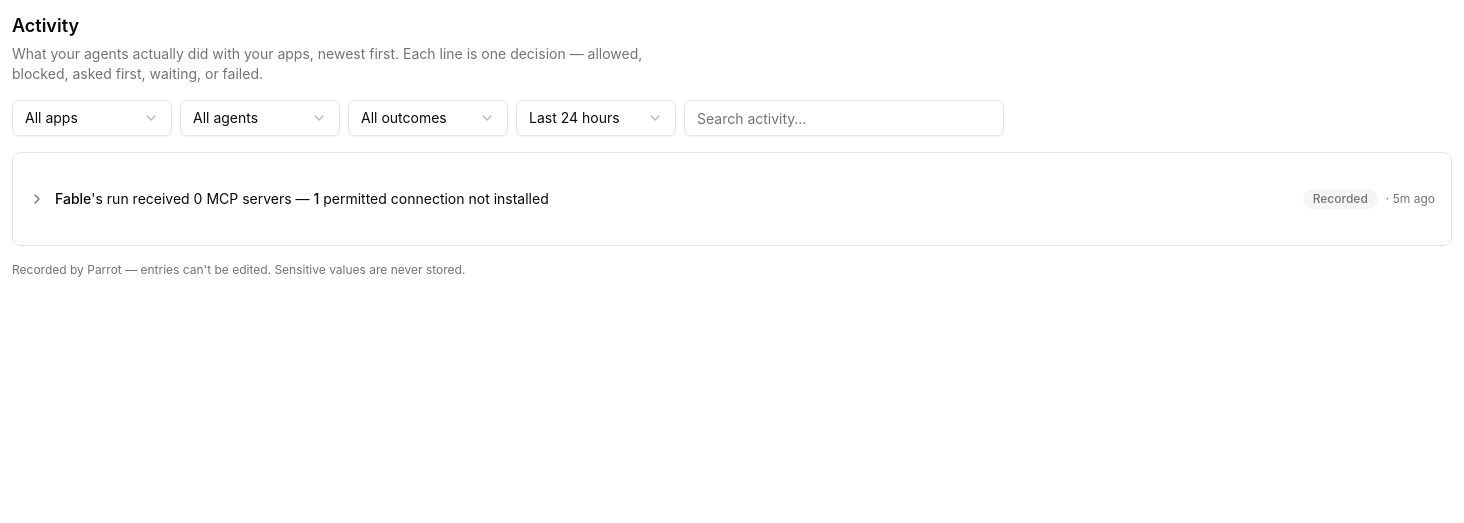
AuditTab › explains when permitted MCP connections were not installed for a run
The width and height of the screenshot is (1464, 523).
Click the button at [73, 198], box left=13, top=177, right=1451, bottom=221
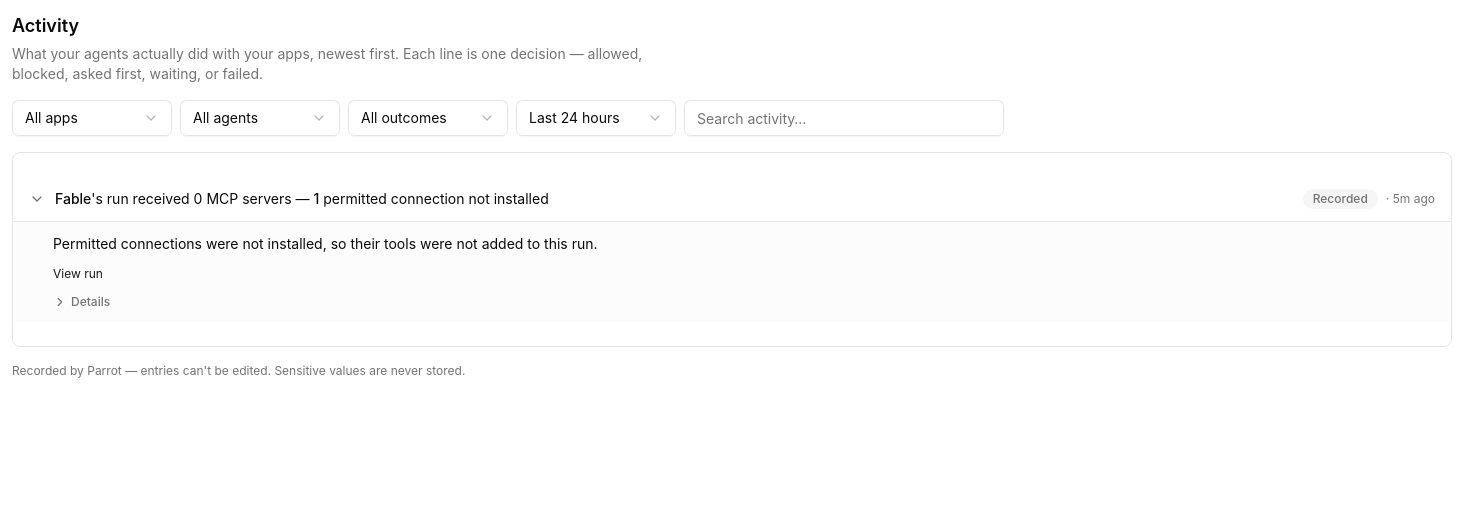
Expected: the text "Permitted connections were not installed" is shown, left=53, top=235, right=598, bottom=252
Expected: the button "Details" is shown
Click the button "Details" at [82, 302], box left=53, top=294, right=110, bottom=310
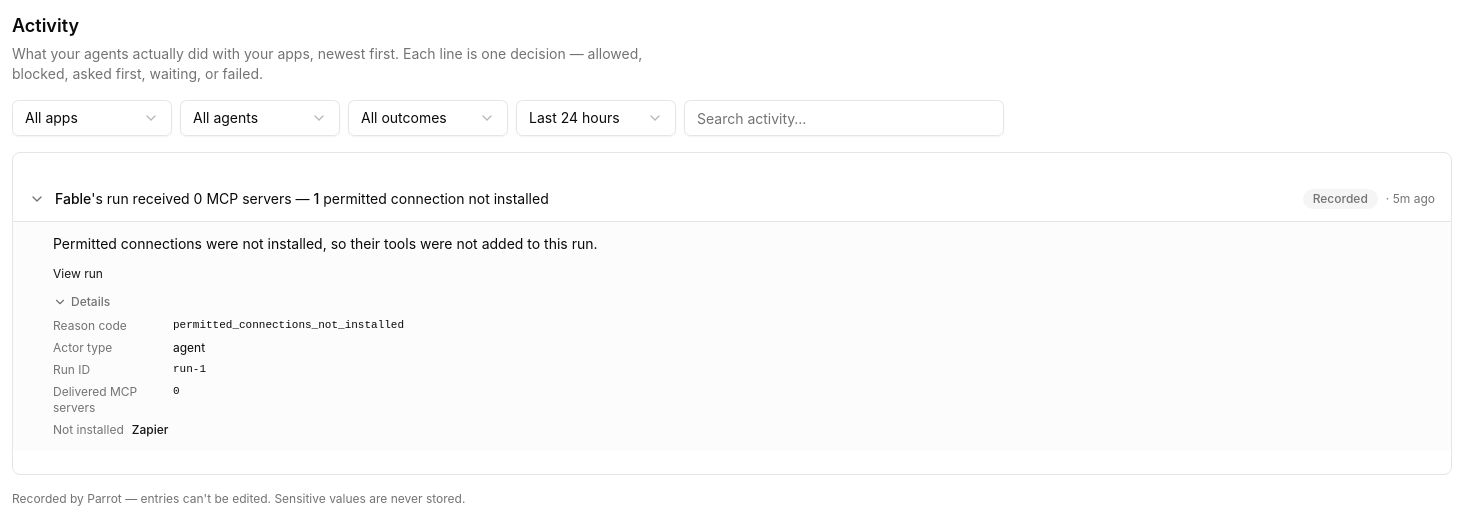
Expected: the link to "/apps/conn-zapier/permissions" is shown, left=132, top=422, right=168, bottom=438
